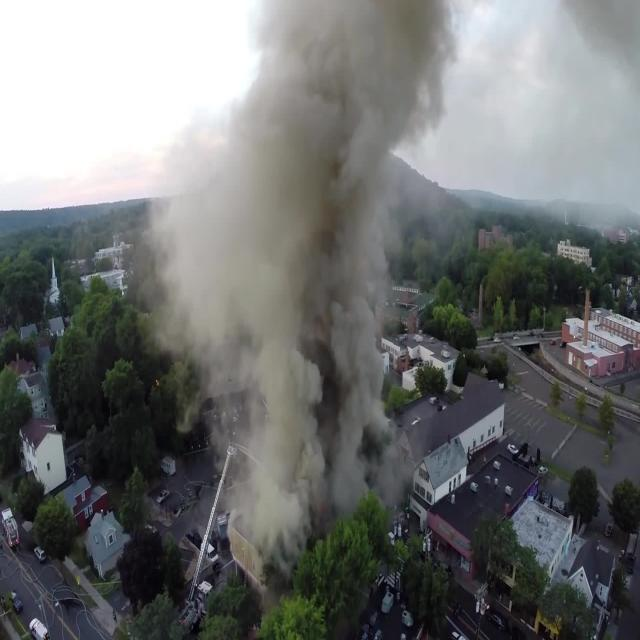Smoke: (154, 0, 452, 590)
